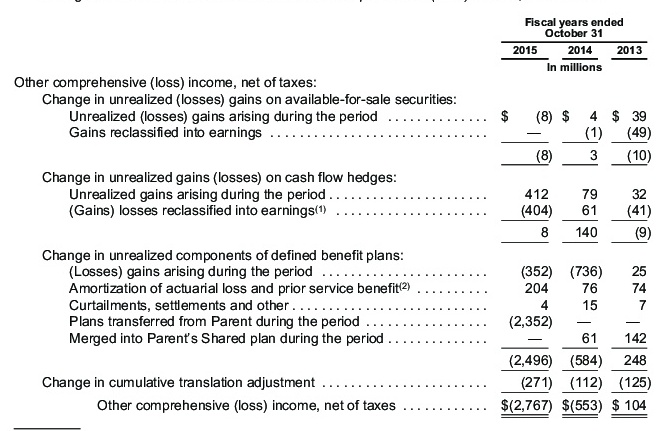table: (0, 0, 669, 431)
